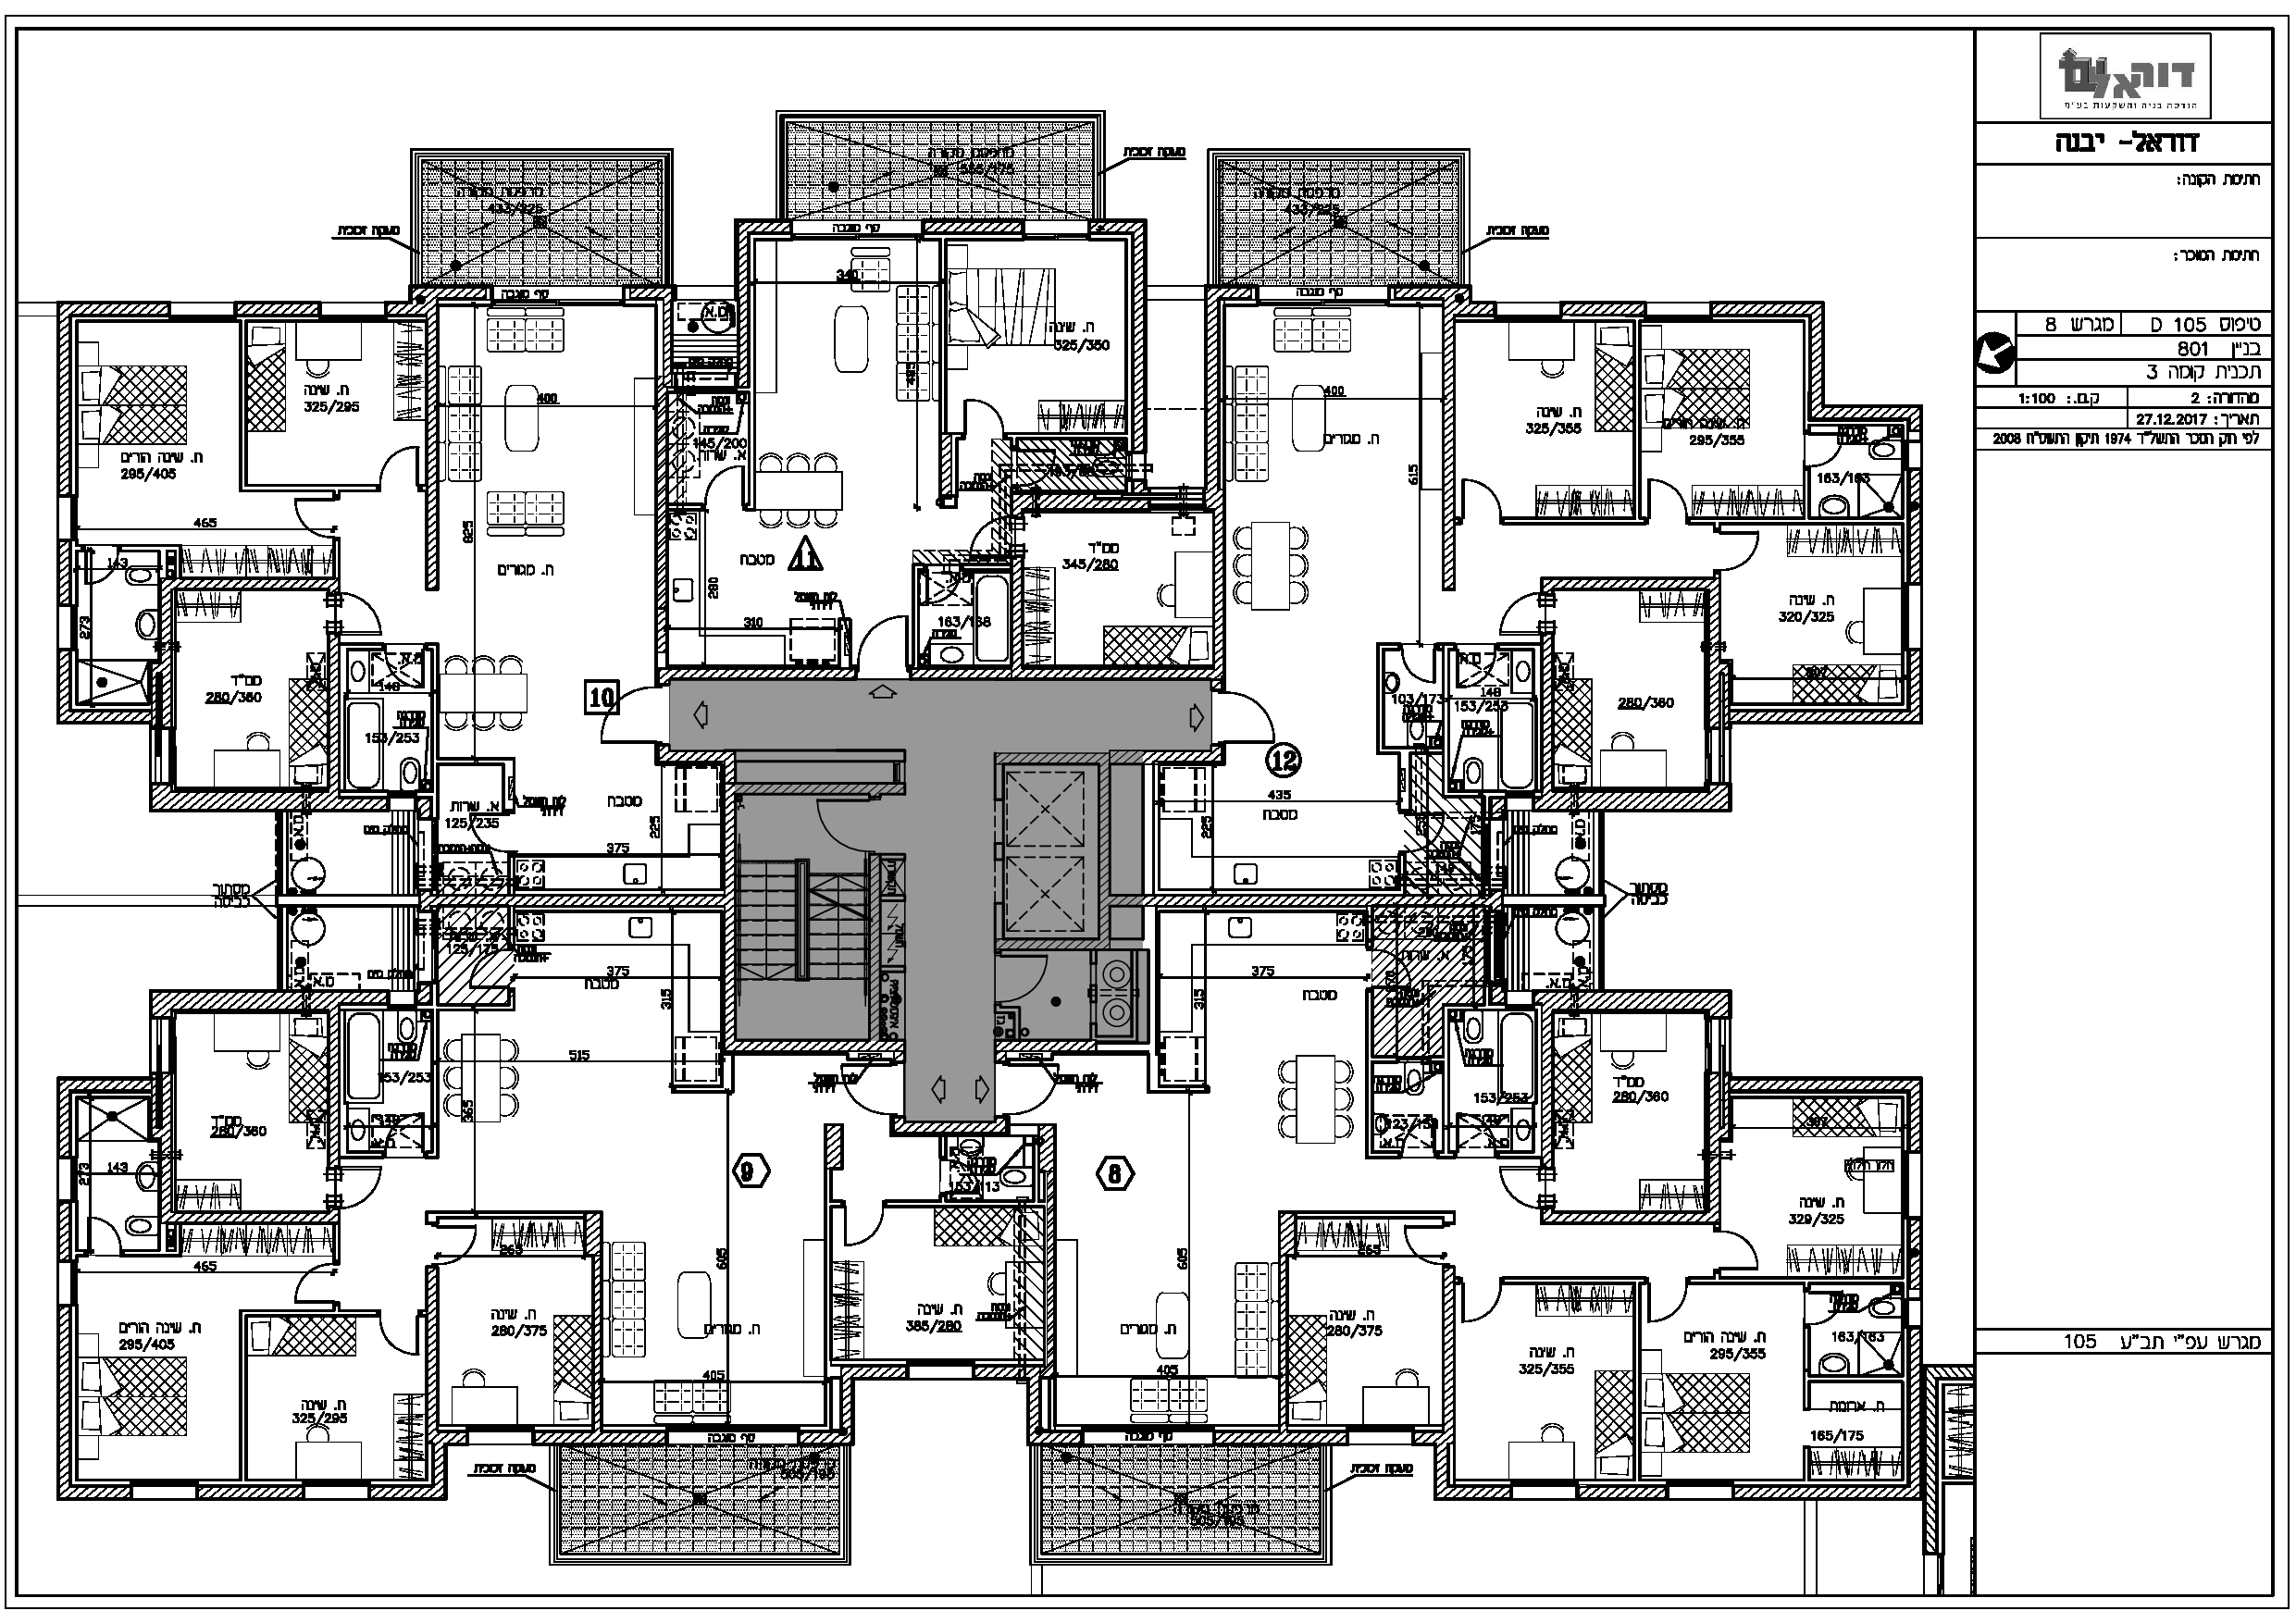door: (596, 683, 669, 750), (991, 1057, 1066, 1119), (833, 1059, 908, 1121), (1637, 1265, 1699, 1335), (1706, 1224, 1767, 1295), (1449, 1272, 1509, 1342), (1397, 1215, 1456, 1284), (464, 940, 520, 1005), (327, 1143, 383, 1207), (1456, 474, 1511, 539), (696, 455, 750, 520), (371, 1303, 425, 1368), (1644, 469, 1699, 532), (954, 390, 1008, 453), (295, 1261, 350, 1324), (423, 1215, 478, 1279), (1226, 692, 1284, 750), (852, 606, 908, 666), (813, 796, 868, 857), (1495, 1161, 1539, 1214), (341, 588, 385, 639), (290, 494, 332, 541), (841, 1208, 887, 1251), (378, 443, 422, 481)
room: (1634, 1280, 1922, 1502), (58, 1249, 255, 1500), (58, 300, 248, 545), (1539, 576, 1730, 813), (1539, 989, 1730, 1224), (940, 220, 1145, 436), (1715, 1077, 1925, 1286), (1444, 1279, 1643, 1500), (158, 987, 343, 1224), (1630, 300, 1823, 523), (826, 1196, 1058, 1379), (427, 1210, 604, 1446), (239, 300, 439, 494), (239, 1309, 439, 1500)
wall: (653, 667, 1226, 680), (1541, 989, 1732, 1013), (148, 989, 330, 1013), (56, 300, 72, 494), (1802, 300, 1825, 423)
window: (1254, 283, 1391, 307), (1080, 1423, 1216, 1447), (789, 218, 926, 241), (664, 1423, 801, 1446), (488, 285, 627, 306), (1702, 727, 1732, 785), (1346, 1423, 1416, 1447), (1509, 1477, 1578, 1502), (1704, 1015, 1732, 1075), (128, 1477, 199, 1500), (905, 1358, 975, 1381), (1664, 1477, 1734, 1500), (1901, 1149, 1924, 1219), (1901, 583, 1924, 653), (1021, 218, 1093, 239), (300, 1479, 371, 1500), (320, 300, 388, 321), (1493, 300, 1562, 321), (169, 302, 237, 321), (466, 1425, 534, 1444), (1646, 302, 1713, 321), (56, 1258, 79, 1307), (56, 602, 79, 650), (56, 1154, 77, 1201), (56, 495, 77, 539), (1901, 439, 1924, 471)
